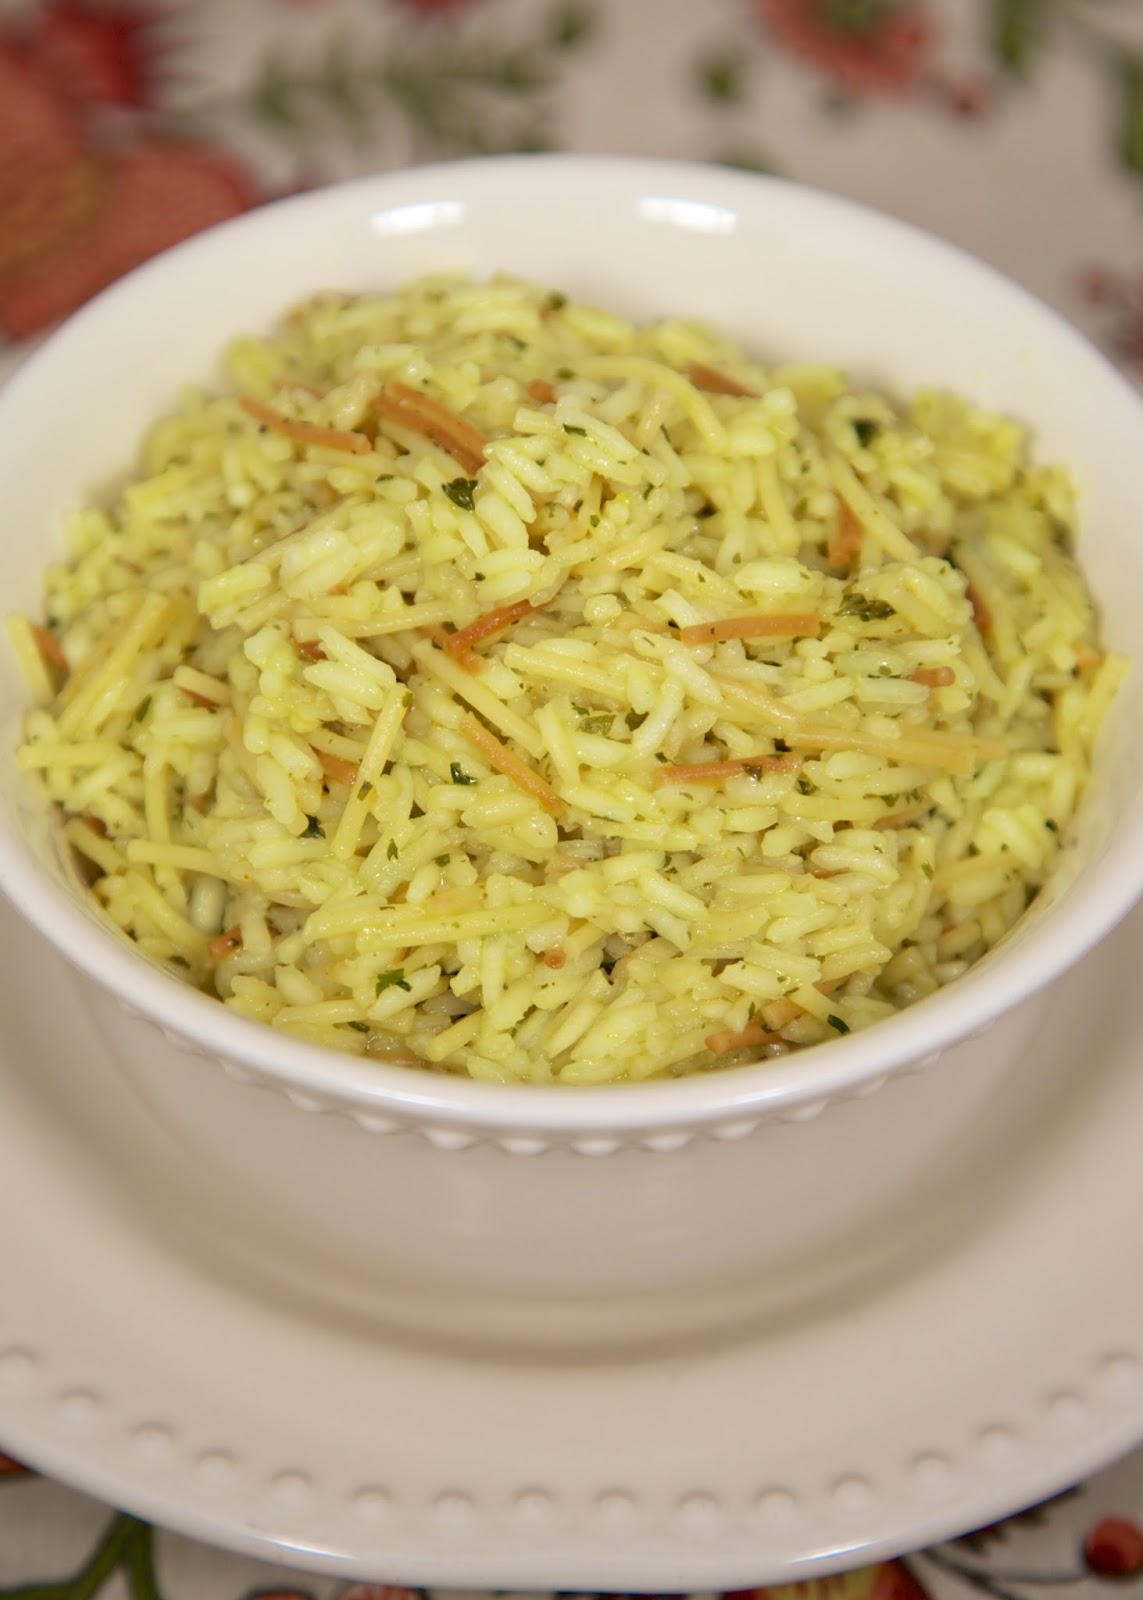plain rice: (99, 309, 1050, 1055)
